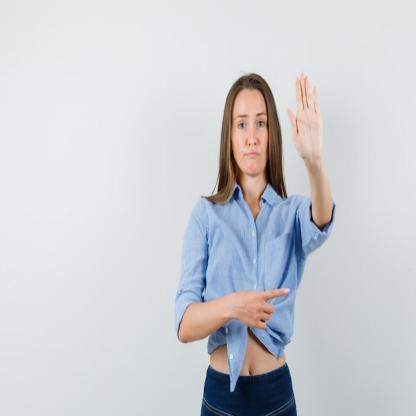stop: (286, 69, 324, 170)
